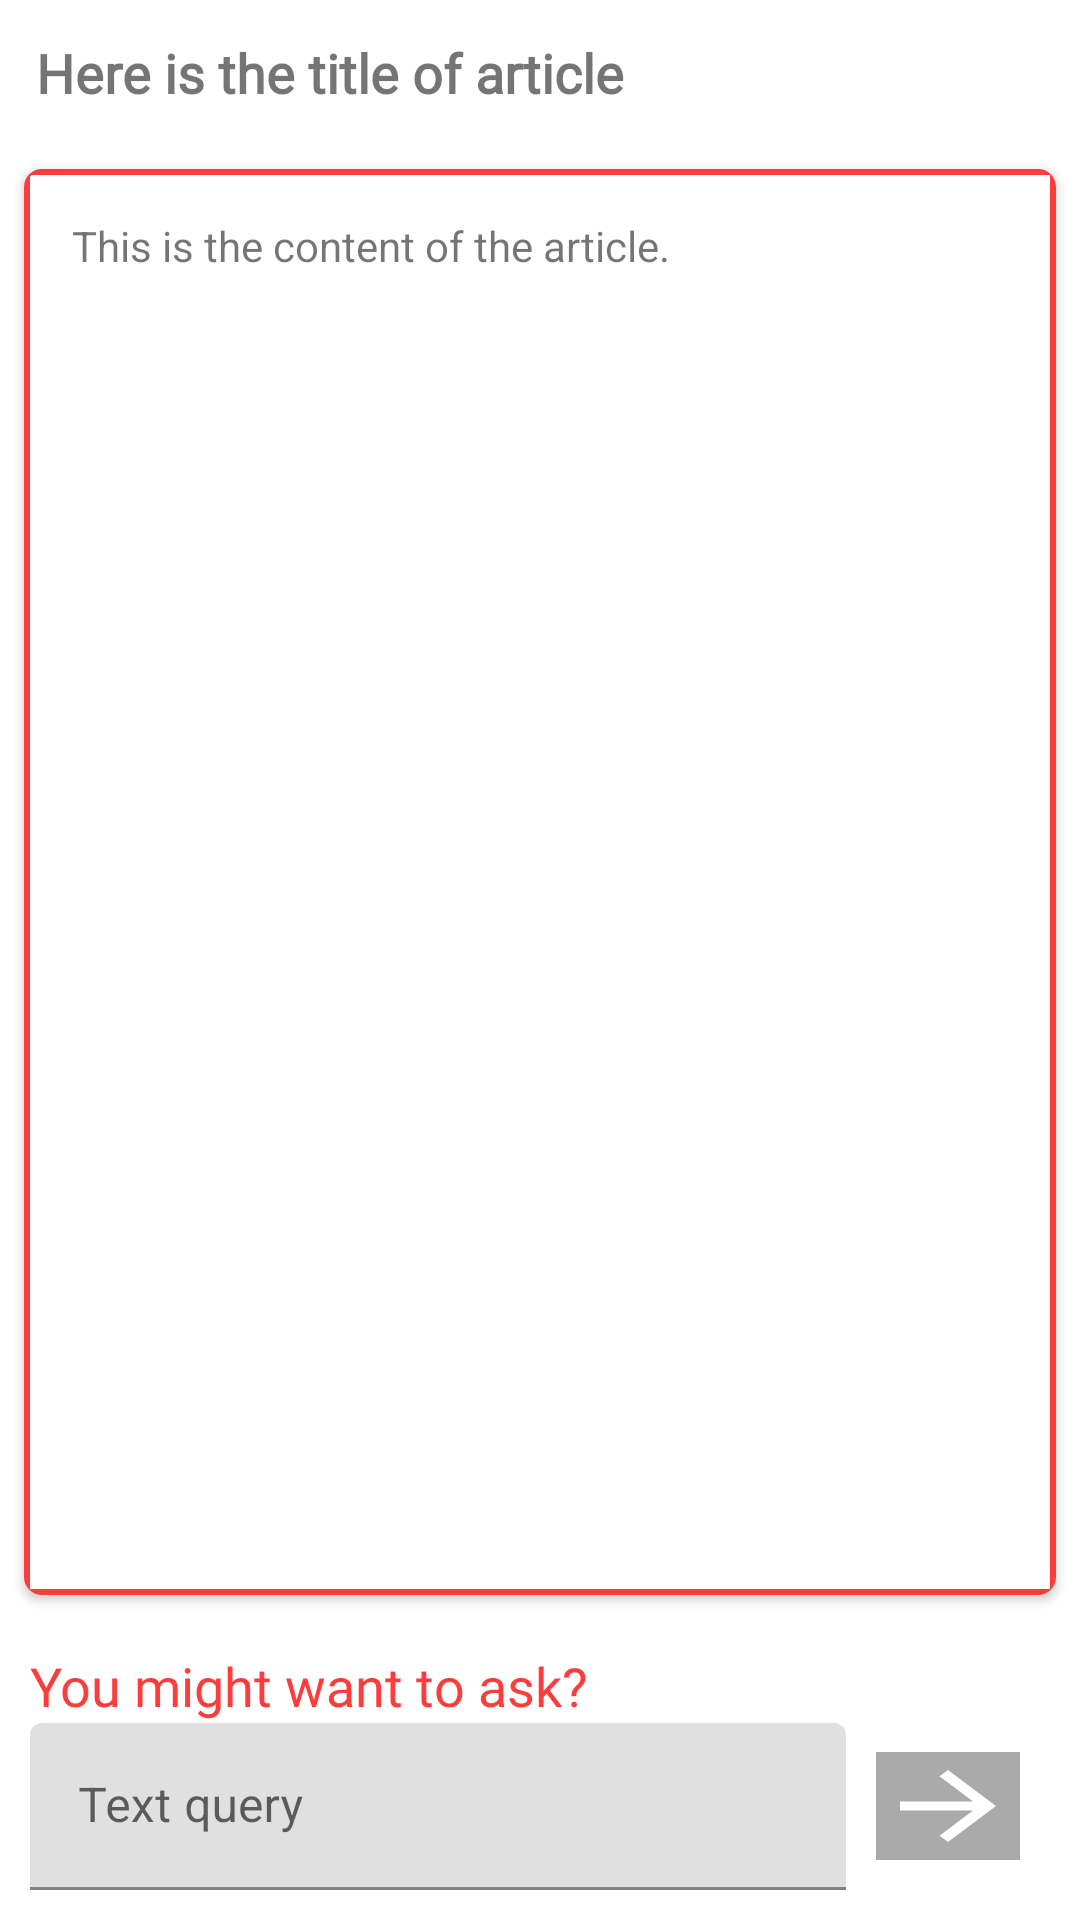

Icons on this 1080×1920 Android screen, each with the point to tap as (x,y):
Ask question: (948,1806)
